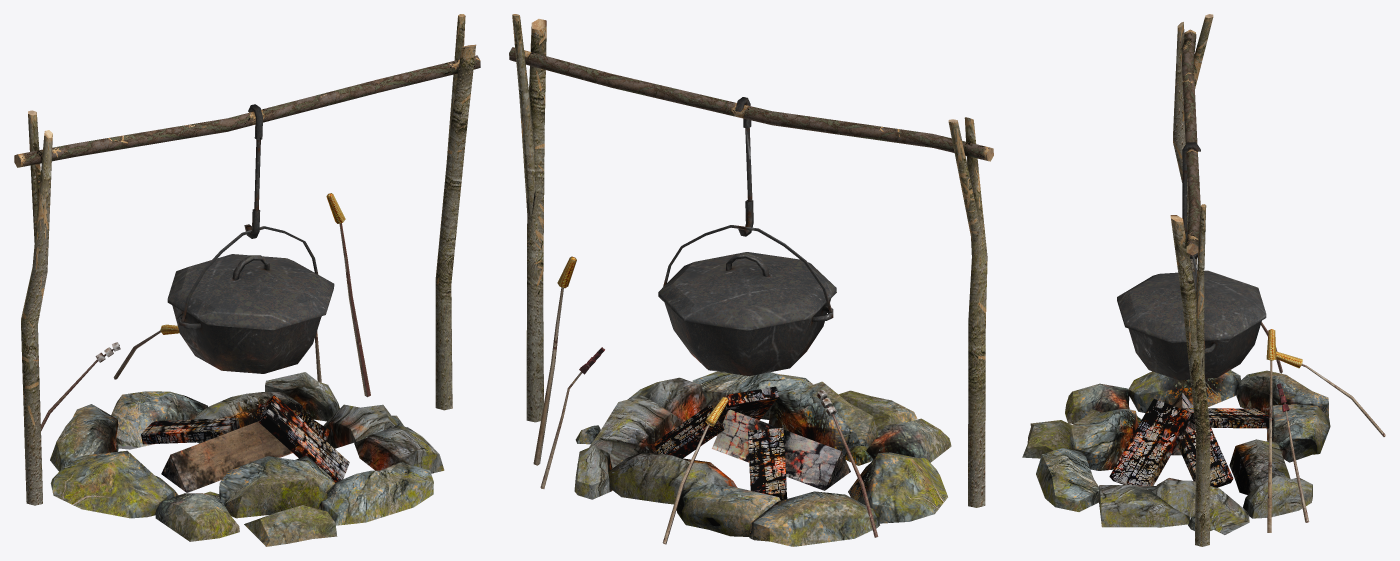
The model's file is Campfire_FBX.fbx.
3 renders of one model, left to right at view 1: azimuth 30°, elevation 25°; view 2: azimuth 150°, elevation 25°; view 3: azimuth 270°, elevation 25°, orthographic. The views are drawn at different scales.
Parts seen in each view (by area): view 1: Campfire; view 2: Campfire; view 3: Campfire.
Boxes of the visible parts, box(x1,y1,x2,y2) form: Campfire: box(14, 14, 480, 546); Campfire: box(509, 14, 993, 546); Campfire: box(1022, 14, 1385, 546).
Bounding box in the file's own units: 152 × 131 × 116.
